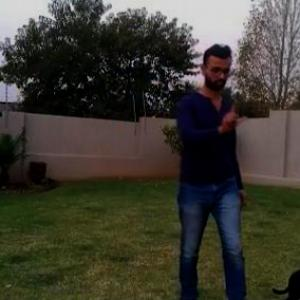land_hand: (216, 93, 247, 137)
